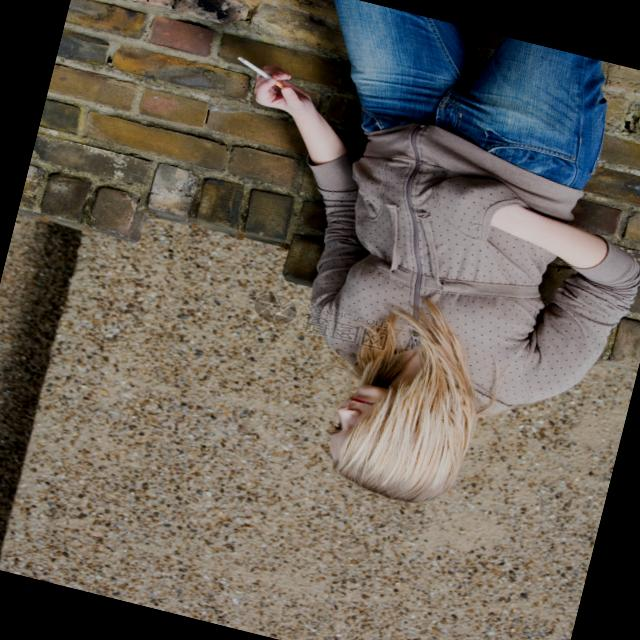smoke: (233, 53, 273, 78)
